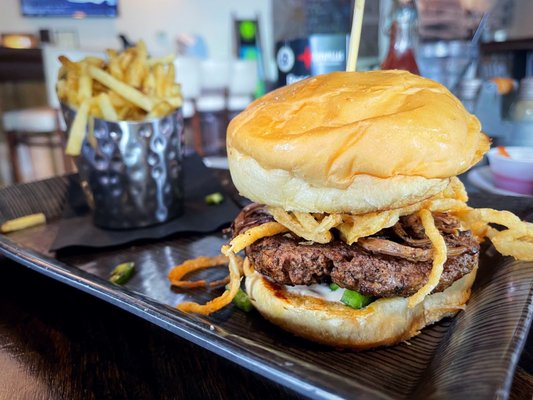soup: (223, 70, 495, 352)
sushi: (487, 145, 533, 196)
